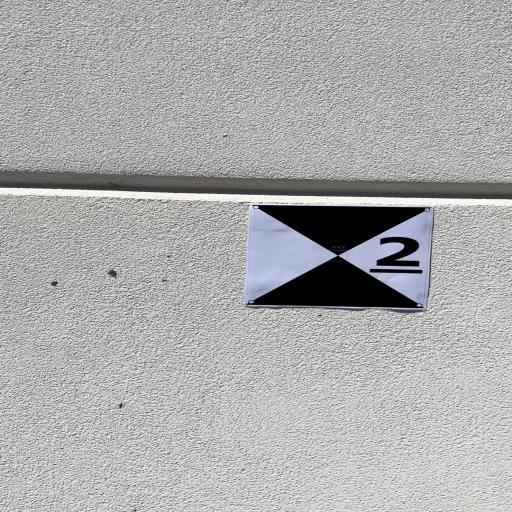target2: (242, 204, 436, 311)
